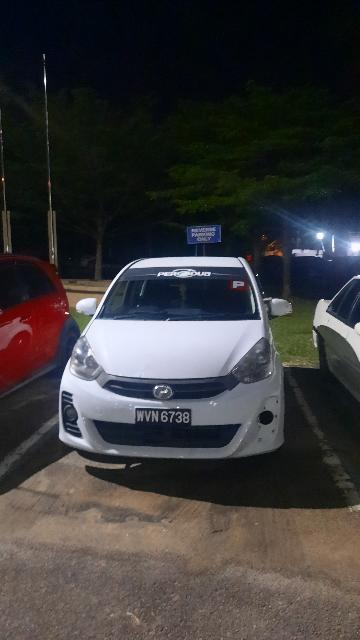License_Plate: (134, 406, 193, 430)
car: (58, 255, 297, 468), (1, 255, 81, 406)
